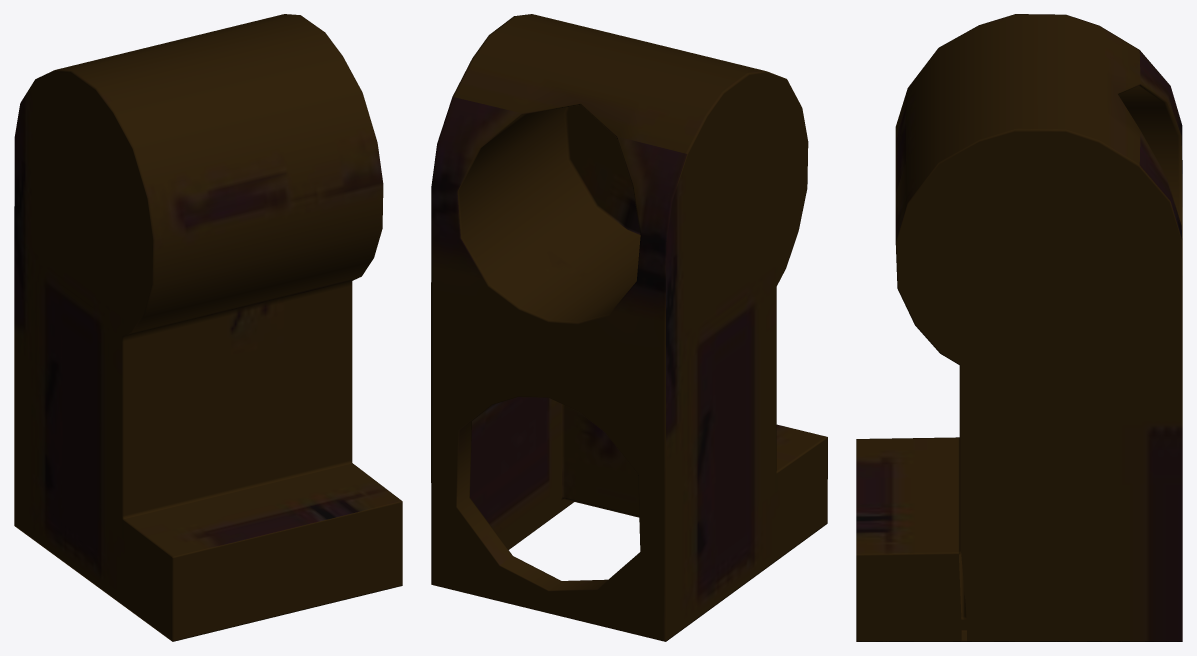
Rendered from elfo_pierna_derecha.obj.
3 views of the same model, side by side, from view 1: azimuth 30°, elevation 25°; view 2: azimuth 150°, elevation 25°; view 3: azimuth 270°, elevation 25° (orthographic). The views are drawn at different scales.
Visible parts, largest first — view 1: Mesh_Default.004_Mesh_Default.008; view 2: Mesh_Default.004_Mesh_Default.008; view 3: Mesh_Default.004_Mesh_Default.008.
Part boxes in pixels (x1,y1,x2,y2): Mesh_Default.004_Mesh_Default.008: (14, 14, 402, 641); Mesh_Default.004_Mesh_Default.008: (431, 14, 827, 641); Mesh_Default.004_Mesh_Default.008: (856, 14, 1182, 641).
Bounding box in the file's own units: 0.9038 × 1.87 × 1.08.
